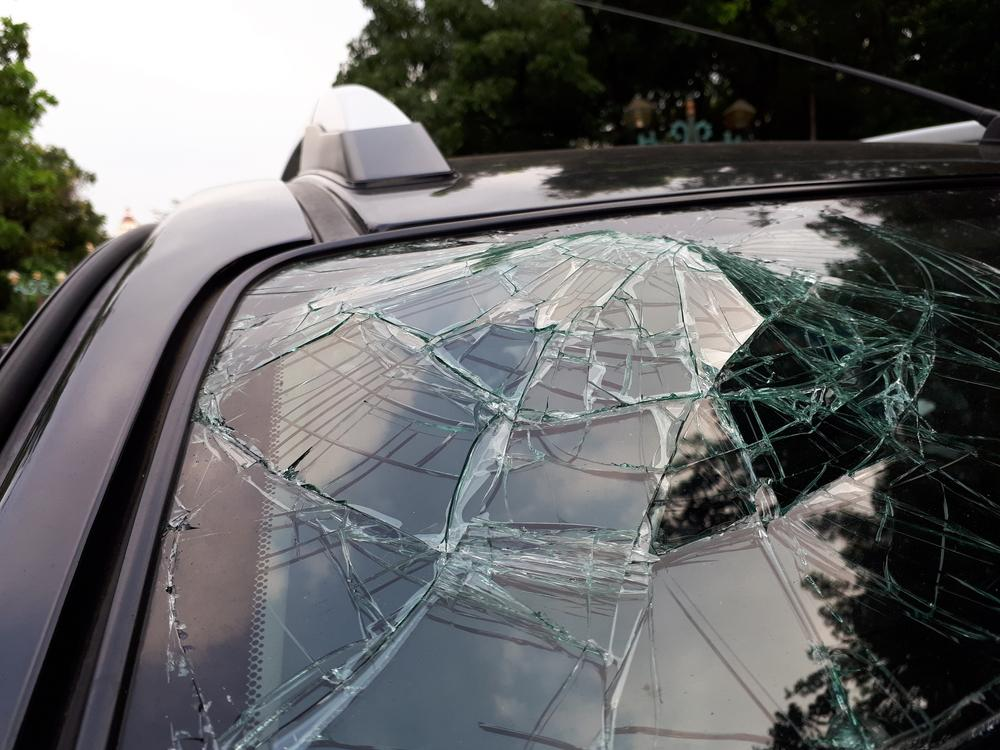glass shatter: (112, 180, 1000, 750)
